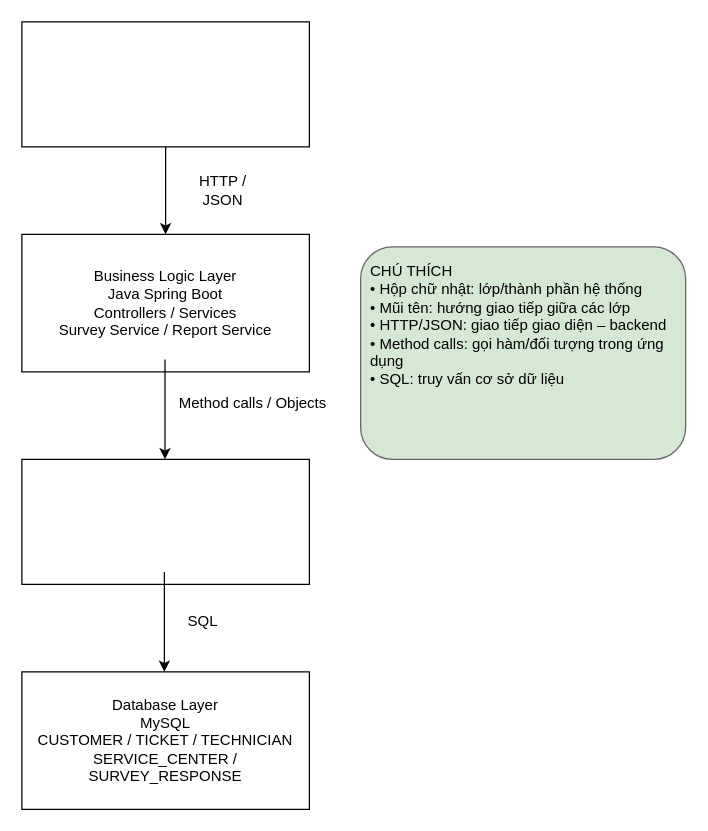
The diagram is 708 pixels wide and 831 high, and some of its shapes have lost their labels. The shapes that lost their labels are listed below. From the top down, each one's centre as x and y in pixels, then its label:
(165,84): Presentation Layer HTML / CSS / JavaScript Giao diện người dùng
(165,521): Data Access Layer Repositories Truy vấn và thao tác dữ liệu
